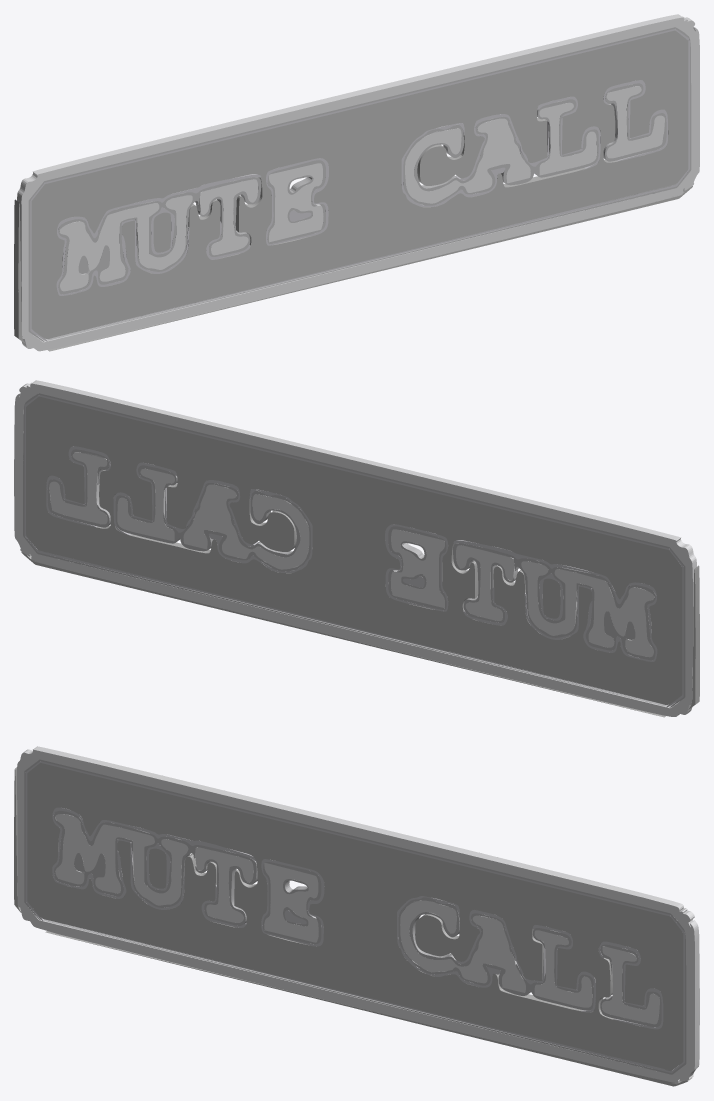
Rendered from telefone.glb.
The picture shows the model from 3 angles, top to bottom: view 1: azimuth 30°, elevation 25°; view 2: azimuth 150°, elevation 25°; view 3: azimuth 330°, elevation 25°; orthographic projection.
Visible parts, largest first — view 1: mesh_0; view 2: mesh_0; view 3: mesh_0.
Part boxes in pixels (x1,y1,x2,y2): mesh_0: [14, 14, 699, 351]; mesh_0: [14, 380, 699, 717]; mesh_0: [14, 746, 699, 1086].
Size of the model in its own units: 120 by 30.55 by 1.35.
Materials: 1 (1 with a texture image).
